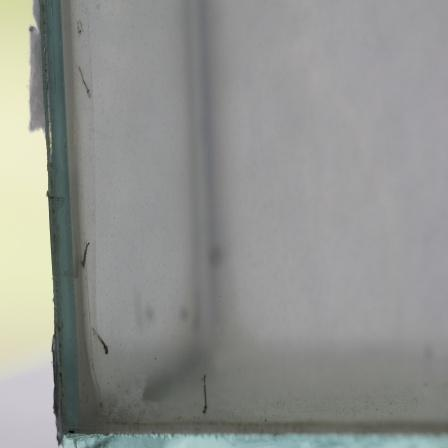Jentik-Nyamuk: (90, 322, 114, 358), (74, 62, 95, 103), (196, 372, 214, 417), (78, 238, 93, 271)
